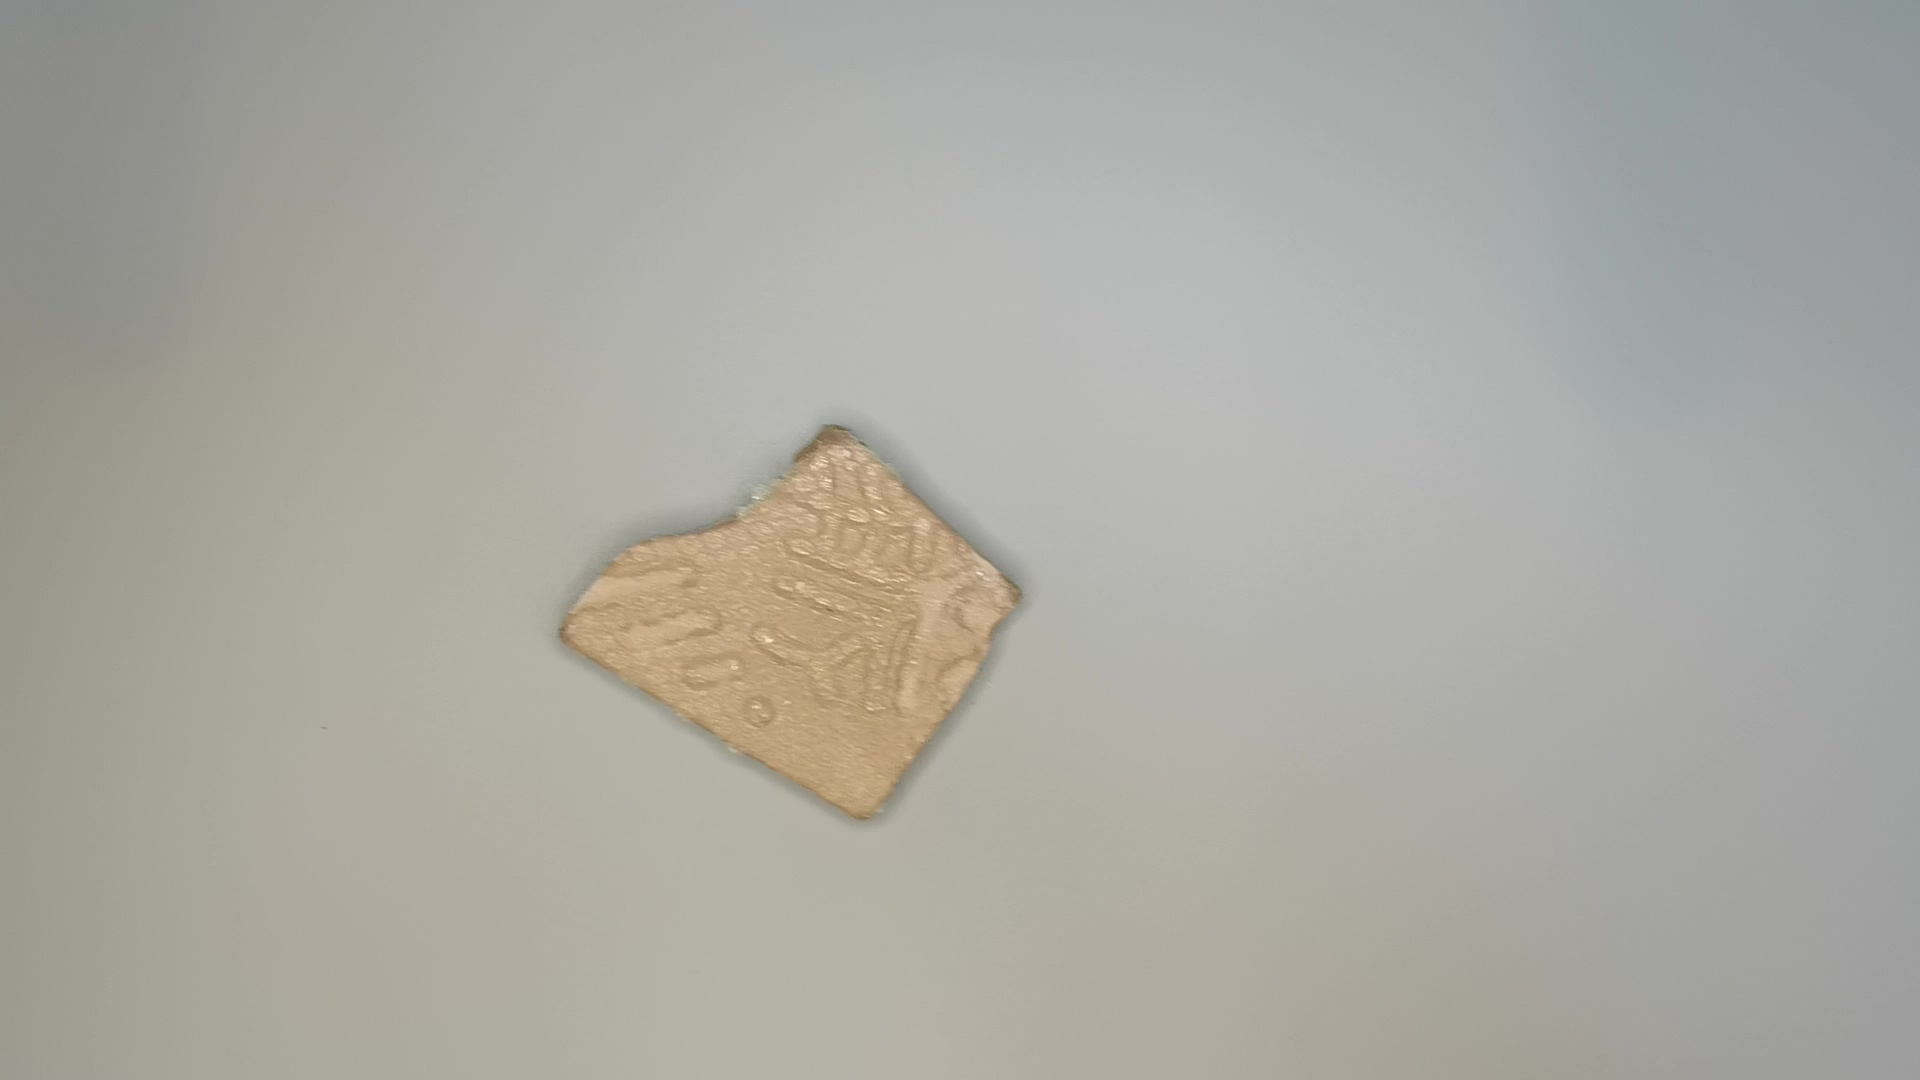ceramic: (545, 415, 1040, 835)
